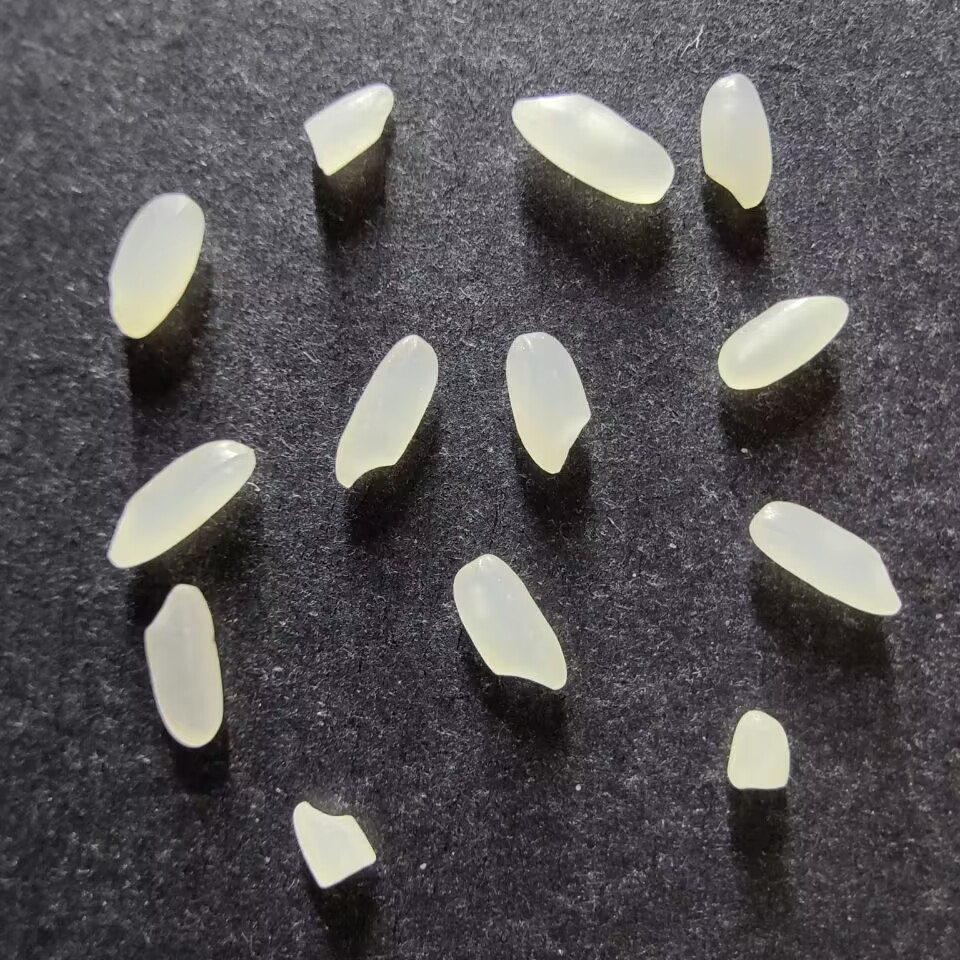broken: (301, 83, 396, 177), (291, 799, 379, 890), (725, 708, 793, 792)
rice: (105, 438, 256, 570), (509, 92, 676, 205), (746, 499, 903, 617), (450, 551, 570, 691), (332, 333, 439, 489), (106, 192, 205, 339), (141, 582, 225, 748), (715, 293, 851, 391), (503, 330, 590, 476), (697, 71, 773, 210)
